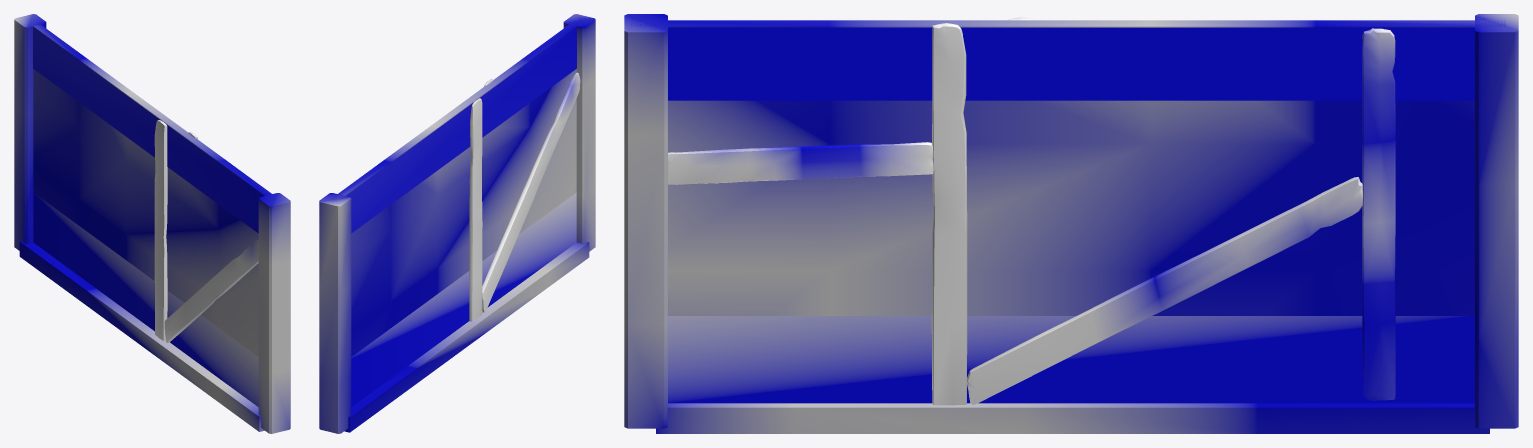
Rendered from SM_ShackFront6m_03.fbx.
The picture shows the model from 3 angles, left to right: view 1: azimuth 30°, elevation 25°; view 2: azimuth 150°, elevation 25°; view 3: azimuth 270°, elevation 25°; orthographic projection. The views are drawn at different scales.
Visible parts, largest first — view 1: SM_ShackFront6m_03_LOD0; view 2: SM_ShackFront6m_03_LOD0; view 3: SM_ShackFront6m_03_LOD0.
Part boxes in pixels (x1,y1,x2,y2): SM_ShackFront6m_03_LOD0: [14, 14, 290, 433]; SM_ShackFront6m_03_LOD0: [319, 14, 595, 433]; SM_ShackFront6m_03_LOD0: [624, 14, 1518, 433].
Bounding box in the file's own units: 32.28 × 614 × 308.
